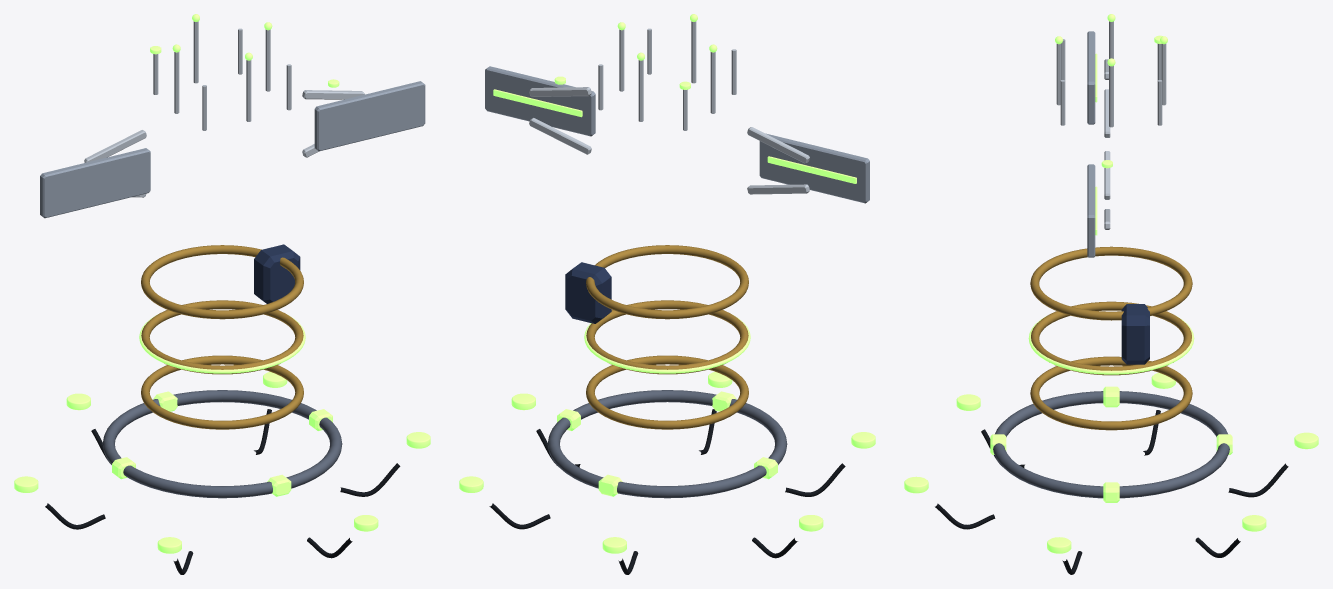
File: tower_detector_field_s9.glb
The picture shows the model from 3 angles, left to right: view 1: azimuth 30°, elevation 25°; view 2: azimuth 150°, elevation 25°; view 3: azimuth 270°, elevation 25°; orthographic projection.
Visible parts, largest first — view 1: detector_base_ring, detector_wing_l, detector_wing_r, detector_field_coil1.3, detector_field_coil0.7, detector_field_coil1, detector_relay, detector_field_coil_glow, detector_wing_strut_r, detector_wing_strut_l; view 2: detector_base_ring, detector_wing_r, detector_wing_l, detector_field_coil1.3, detector_field_coil0.7, detector_field_coil1, detector_relay, detector_field_coil_glow, detector_wing_glow_l, detector_wing_glow_r, detector_wing_strut_b_l, detector_wing_strut_r (+2 smaller); view 3: detector_base_ring, detector_field_coil1.3, detector_field_coil0.7, detector_field_coil1, detector_relay, detector_field_coil_glow, detector_wing_l, detector_wing_r.
Boxes of the visible parts, bbox=[...] form: detector_base_ring: bbox=[102, 390, 342, 498]; detector_wing_l: bbox=[314, 81, 425, 151]; detector_wing_r: bbox=[40, 148, 150, 218]; detector_field_coil1.3: bbox=[141, 245, 303, 319]; detector_field_coil0.7: bbox=[141, 355, 303, 429]; detector_field_coil1: bbox=[141, 300, 303, 374]; detector_relay: bbox=[254, 244, 300, 303]; detector_field_coil_glow: bbox=[139, 314, 305, 373]; detector_wing_strut_r: bbox=[84, 130, 146, 162]; detector_wing_strut_l: bbox=[302, 90, 364, 99]; detector_base_ring: bbox=[547, 390, 787, 498]; detector_wing_r: bbox=[759, 133, 869, 203]; detector_wing_l: bbox=[485, 66, 595, 136]; detector_field_coil1.3: bbox=[586, 245, 748, 319]; detector_field_coil0.7: bbox=[586, 355, 748, 429]; detector_field_coil1: bbox=[586, 300, 748, 374]; detector_relay: bbox=[565, 262, 611, 323]; detector_field_coil_glow: bbox=[584, 314, 750, 373]; detector_wing_glow_l: bbox=[493, 89, 582, 117]; detector_wing_glow_r: bbox=[767, 156, 856, 183]; detector_wing_strut_b_l: bbox=[529, 118, 591, 154]; detector_wing_strut_r: bbox=[747, 127, 809, 163]; detector_base_ring: bbox=[993, 391, 1229, 498]; detector_field_coil1.3: bbox=[1030, 246, 1192, 320]; detector_field_coil0.7: bbox=[1030, 356, 1192, 430]; detector_field_coil1: bbox=[1031, 301, 1191, 375]; detector_relay: bbox=[1121, 304, 1149, 364]; detector_field_coil_glow: bbox=[1028, 316, 1194, 374]; detector_wing_l: bbox=[1087, 164, 1095, 257]; detector_wing_r: bbox=[1087, 31, 1095, 124].
Size of what is drawn, in the model's own units: 2.17 by 2.6 by 2.05.
